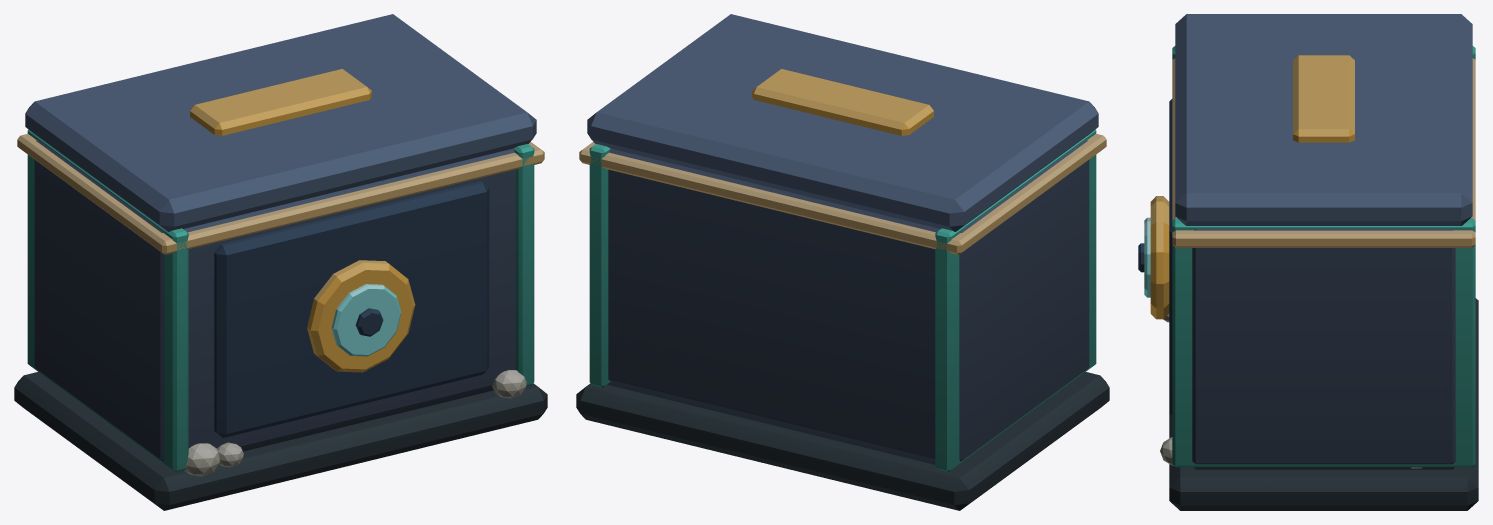
Rendered from sea-vault.glb.
The picture shows the model from 3 angles, left to right: view 1: azimuth 30°, elevation 25°; view 2: azimuth 150°, elevation 25°; view 3: azimuth 270°, elevation 25°; orthographic projection. The views are drawn at different scales.
Visible parts, largest first — view 1: mesh_sea_vault; view 2: mesh_sea_vault; view 3: mesh_sea_vault.
Part boxes in pixels (left/top/right/bottom): mesh_sea_vault: left=14, top=14, right=547, bottom=510; mesh_sea_vault: left=576, top=14, right=1109, bottom=510; mesh_sea_vault: left=1138, top=14, right=1478, bottom=510.
Size of the model in its own units: 1.5 by 1.16 by 1.1.
